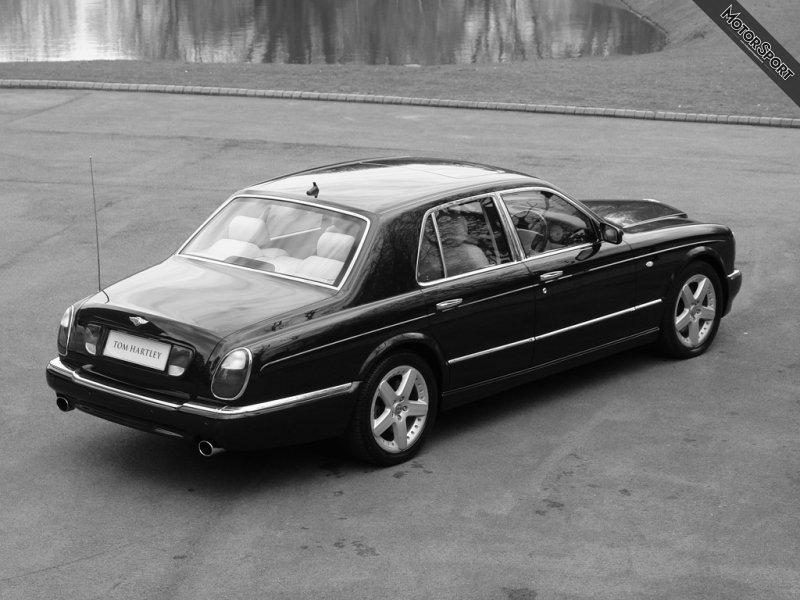car: (43, 153, 748, 468)
